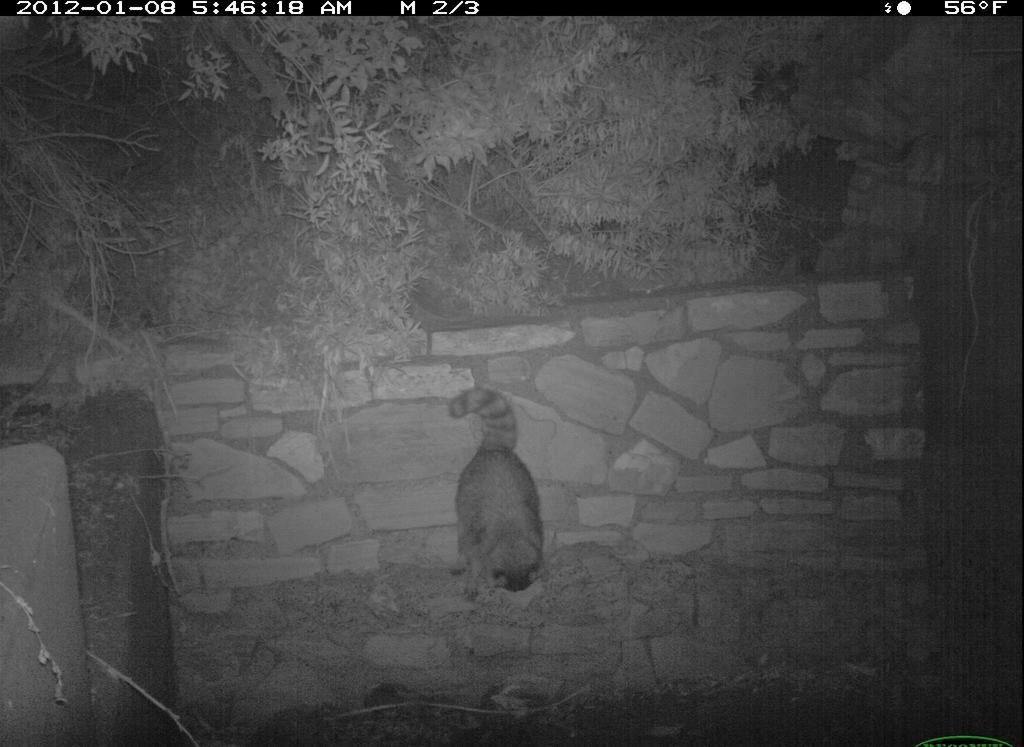raccoon: (443, 383, 551, 602)
